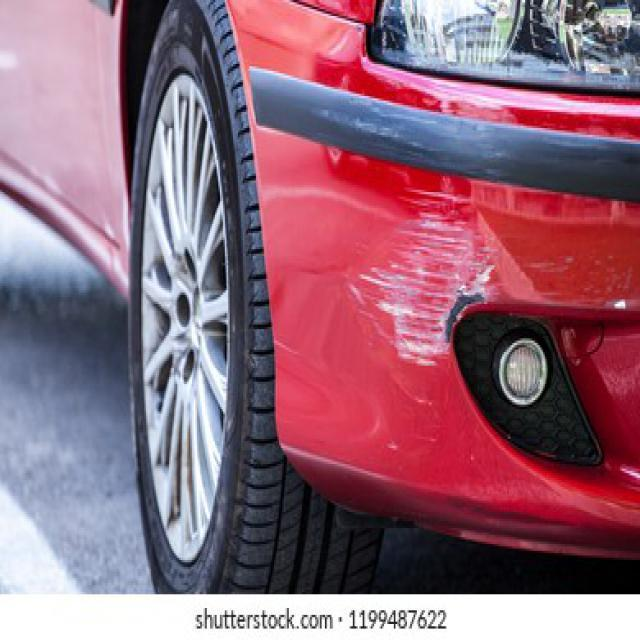front-bumper-dent: (230, 70, 638, 484)
